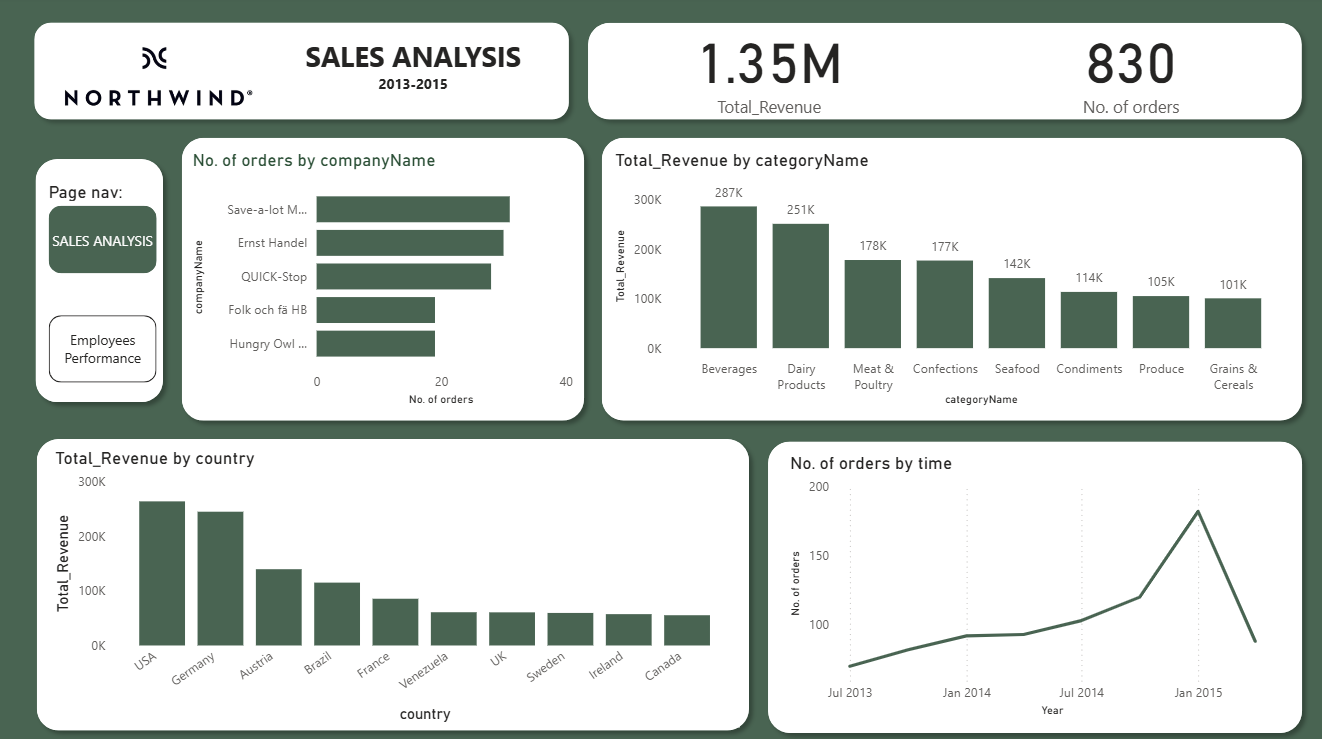

This screenshot's page, from the dashboard's own definition file:
{"tool":"powerbi","page":{"name":"SALES ANALYSIS","canvas":[1280,720],"ordinal":0},"visuals":[{"type":"shape","box":[558.5,16.5,706.7,111.1],"z":0},{"type":"shape","box":[571.9,127.9,693.7,290.8],"z":1000},{"type":"shape","box":[166,127.6,406.2,290.9],"z":2000},{"type":"shape","box":[732,420.5,533.3,299.2],"z":3000},{"type":"shape","box":[24.7,16.5,533.8,111.1],"z":4000},{"type":"columnChart","fields":{"Category":["categories.categoryName"],"Y":["order_details.Total_Revenue"]},"box":[588.7,148.2,662.8,252.5],"z":5000},{"type":"shape","box":[26.1,418.5,705.3,299.1],"z":6000},{"type":"barChart","fields":{"Category":["customers.companyName"],"Y":["order_details.No. of orders"]},"box":[181.1,148.2,377.4,252.5],"z":7000},{"type":"lineChart","title":"No. of orders by time","fields":{"Y":["order_details.No. of orders"],"Category":["orders.orderDate.Variation.Date Hierarchy.Year","orders.orderDate.Variation.Date Hierarchy.Quarter"]},"box":[757.7,440.2,483.1,259.9],"z":8000},{"type":"columnChart","fields":{"Category":["customers.country"],"Y":["order_details.Total_Revenue"]},"box":[48,435,665.5,270.3],"z":9000},{"type":"card","fields":{"Values":["order_details.No. of orders"]},"box":[976,9.7,231.6,118.2],"z":10000},{"type":"card","fields":{"Values":["order_details.Total_Revenue"]},"box":[622.5,9.7,240.1,118.2],"z":11000},{"type":"textbox","box":[255.8,35,285.9,72.4],"z":12000},{"type":"image","box":[47.1,35,208.7,83.2],"z":13000},{"type":"shape","box":[25.7,148.4,141,252.6],"z":14000},{"type":"pageNavigator","title":"Page nav:","box":[47.1,178.6,105,194.2],"z":16001}]}

Visuals, with their boxes in screenshot pixels (x1, y1, x2, y2), scaled from the page's 1280x720 canvas onto the 1322x739 screenshot:
shape: [577,17,1307,131]
shape: [591,131,1307,430]
shape: [171,131,591,430]
shape: [756,432,1307,738]
shape: [26,17,577,131]
columnChart - categories.categoryName x order_details.Total_Revenue: [608,152,1293,411]
shape: [27,430,755,737]
barChart - customers.companyName x order_details.No. of orders: [187,152,577,411]
"No. of orders by time" lineChart: [783,452,1282,719]
columnChart - customers.country x order_details.Total_Revenue: [50,446,737,724]
card - order_details.No. of orders: [1008,10,1247,131]
card - order_details.Total_Revenue: [643,10,891,131]
textbox: [264,36,559,110]
image: [49,36,264,121]
shape: [27,152,172,412]
"Page nav:" pageNavigator: [49,183,157,383]
